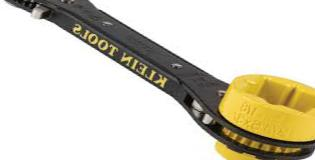wrench: (6, 1, 315, 160)
